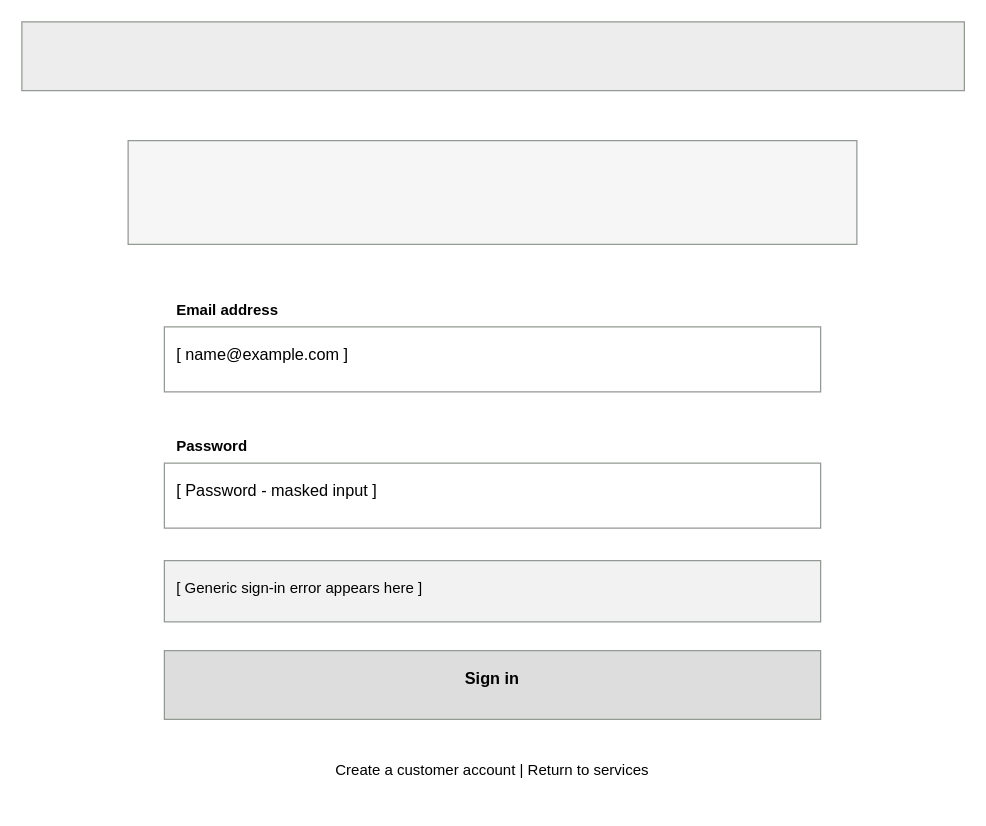
This 986x826 diagram has some shape labels left out. Here are the shapes that lost their labels. From the top down, the centre of each, then its label:
the point at 492,56: PAVING SERVICE MANAGEMENT | Home Services Sign in
the point at 492,191: Welcome back Sign in to manage your paving requests or assigned jobs.
